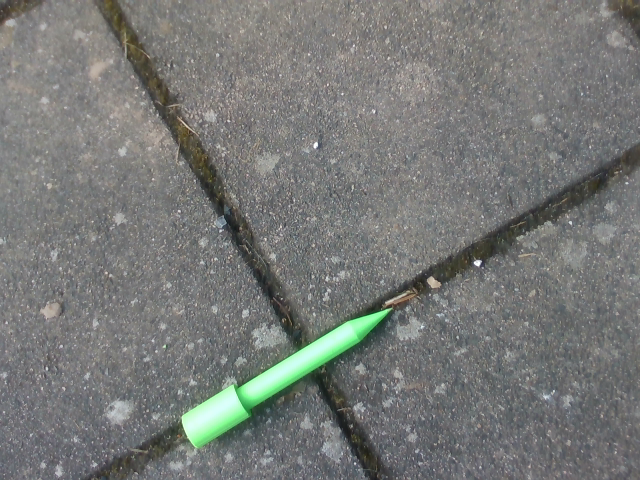Probe: (174, 298, 402, 455)
